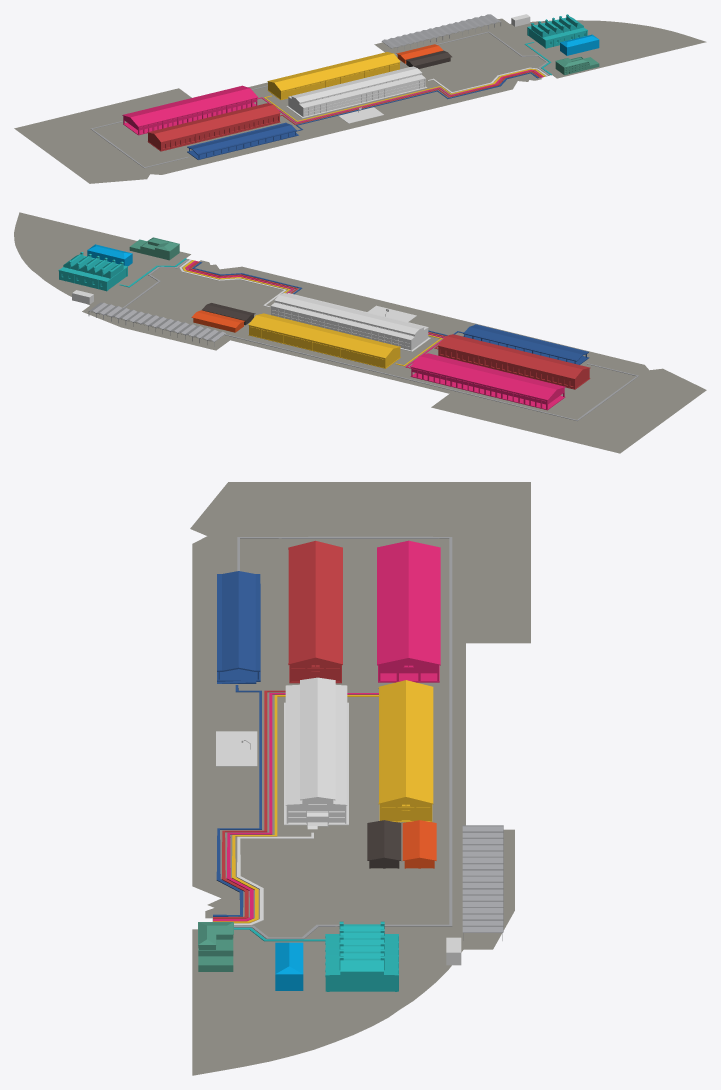
Rendered from DumboSpace-v1-v3.glb.
3 renders of one model, top to bottom at view 1: azimuth 30°, elevation 25°; view 2: azimuth 150°, elevation 25°; view 3: azimuth 270°, elevation 25°, orthographic. The views are drawn at different scales.
Visible parts, largest first — view 1: Baia (Blu); view 2: Baia (Blu); view 3: Baia (Blu).
Part boxes in pixels (x1=…): Baia (Blu): x1=14, y1=14, x2=706, y2=183; Baia (Blu): x1=14, y1=212, x2=706, y2=453; Baia (Blu): x1=190, y1=482, x2=530, y2=1075.
Bounding box in the file's own units: 497 × 11.89 × 121.
Materials: 1 (1 with a texture image).
